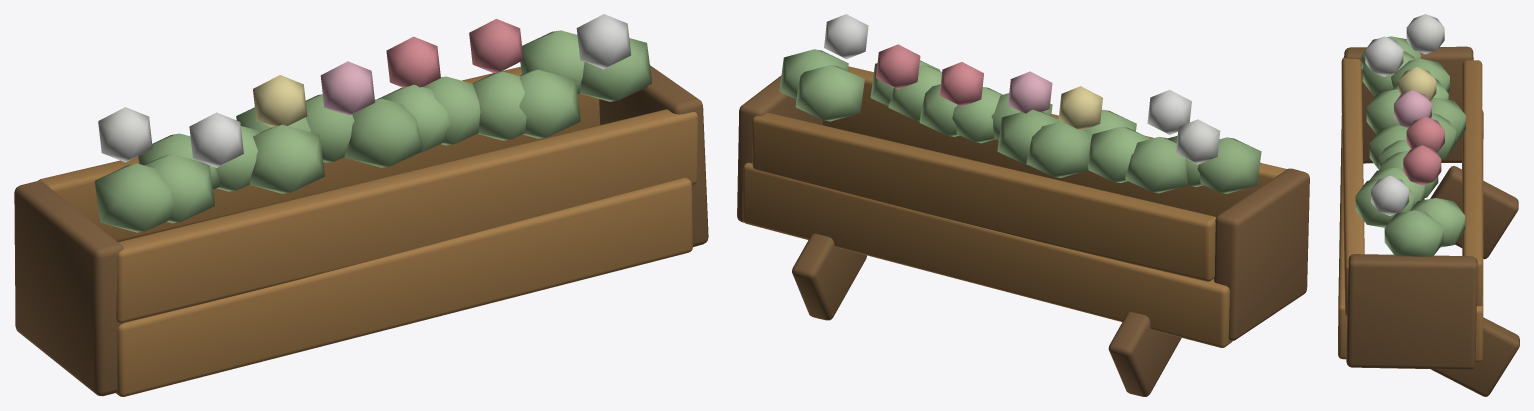
File: tg_flower_box.glb
3 renders of one model, left to right at view 1: azimuth 30°, elevation 25°; view 2: azimuth 150°, elevation 25°; view 3: azimuth 270°, elevation 25°, orthographic. The views are drawn at different scales.
Visible parts, largest first — view 1: flower_box_tg; view 2: flower_box_tg; view 3: flower_box_tg.
Part boxes in pixels (left/top/right/bottom): flower_box_tg: left=14, top=14, right=708, bottom=396; flower_box_tg: left=737, top=14, right=1309, bottom=396; flower_box_tg: left=1338, top=14, right=1519, bottom=396.
Size of the model in its own units: 1.04 by 0.5116 by 0.3665.
